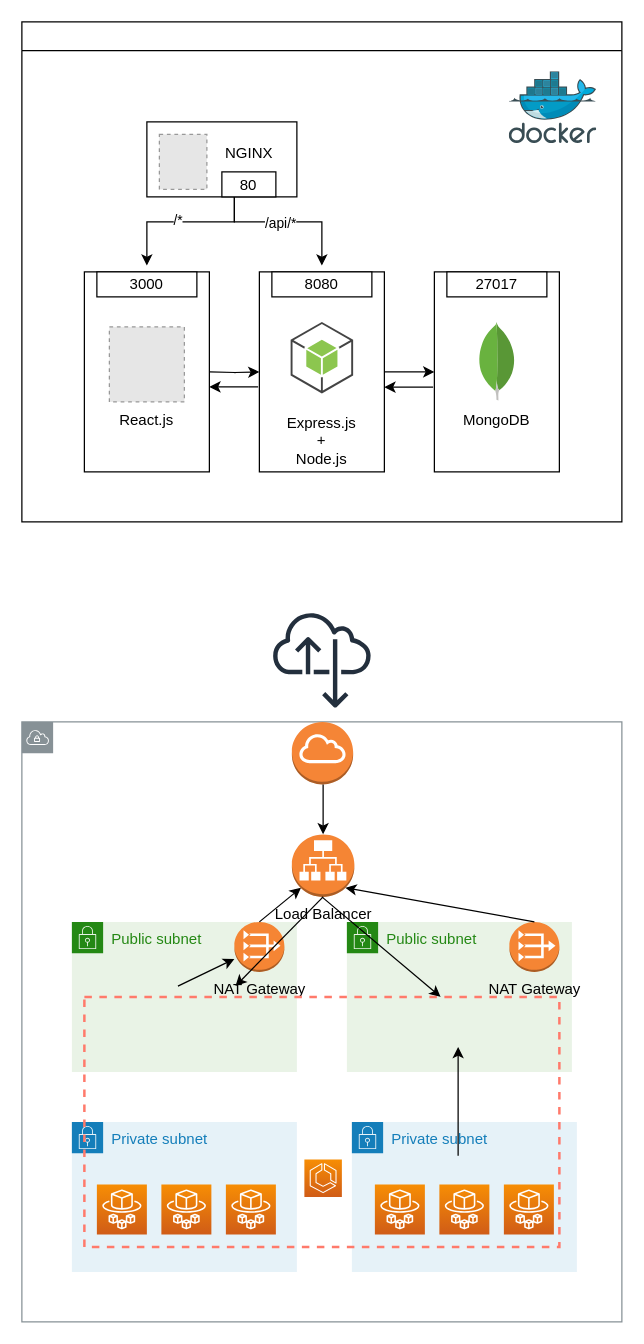
Image size: 644x1344. Some labels were removed from this diagram. Grey dashed boxes stand in for pictures. The shapes that lost their labels are listed below. From the top down, each one's box as (x1, y1, x2, y2) in pixels, then its label:
(21, 21, 622, 522): Docker
(291, 721, 353, 784): Internet Gateway
(21, 721, 622, 1322): VPC
(82, 995, 560, 1248): ECS Cluster
